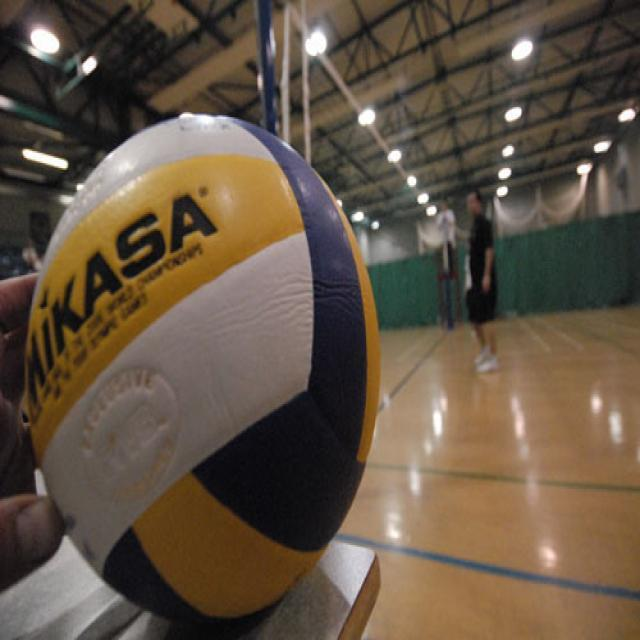volleyball: (24, 113, 382, 628)
